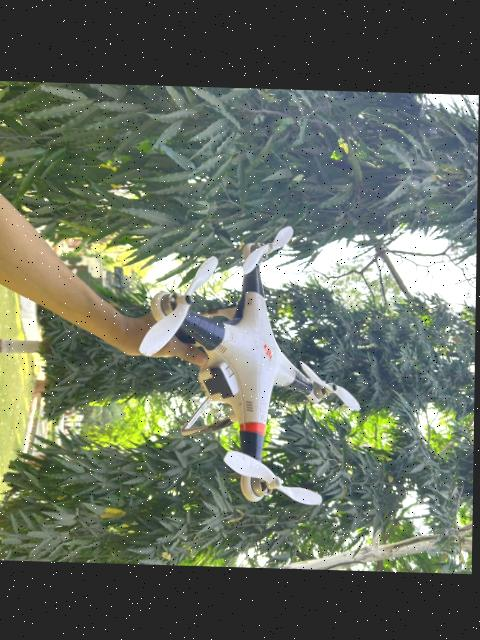drone: (137, 190, 379, 520)
